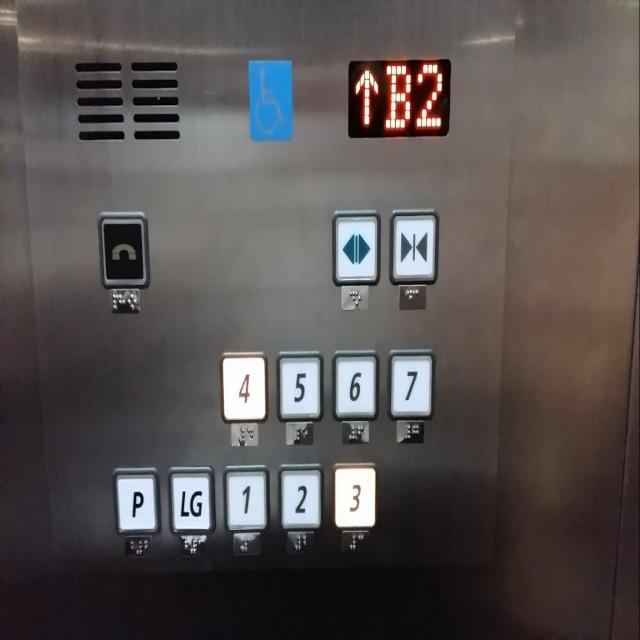1: (221, 459, 272, 537)
2: (274, 457, 326, 538)
3: (329, 457, 379, 534)
4: (218, 345, 270, 426)
5: (274, 345, 326, 426)
6: (329, 345, 381, 426)
7: (384, 342, 436, 422)
CH: (246, 54, 294, 144)
LG: (165, 458, 218, 538)
P: (109, 462, 163, 542)
call: (95, 205, 152, 291)
close: (386, 202, 441, 286)
led: (345, 54, 452, 138)
open: (328, 204, 383, 288)
